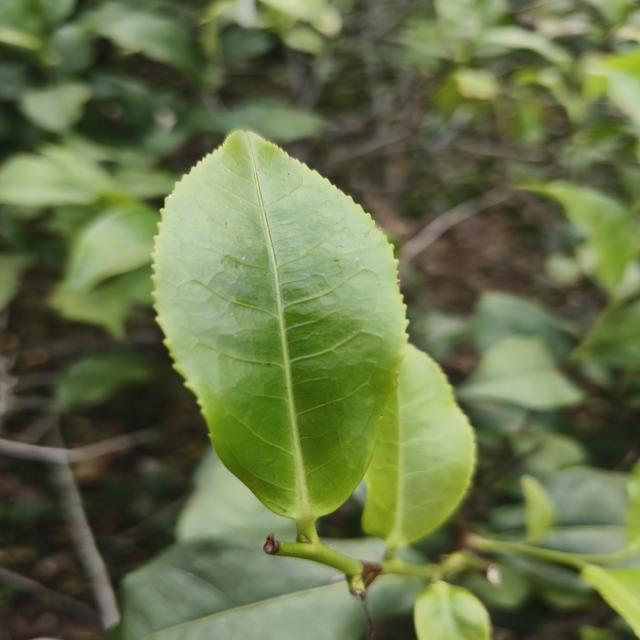Leaf: (154, 132, 406, 539), (120, 536, 366, 640), (362, 344, 476, 551), (525, 181, 640, 291), (459, 335, 583, 410), (65, 206, 159, 292), (89, 2, 197, 75), (539, 466, 627, 554), (0, 147, 117, 207), (472, 291, 568, 359), (414, 581, 491, 640), (21, 82, 91, 133), (367, 575, 422, 620), (324, 538, 384, 562), (489, 503, 525, 540)
